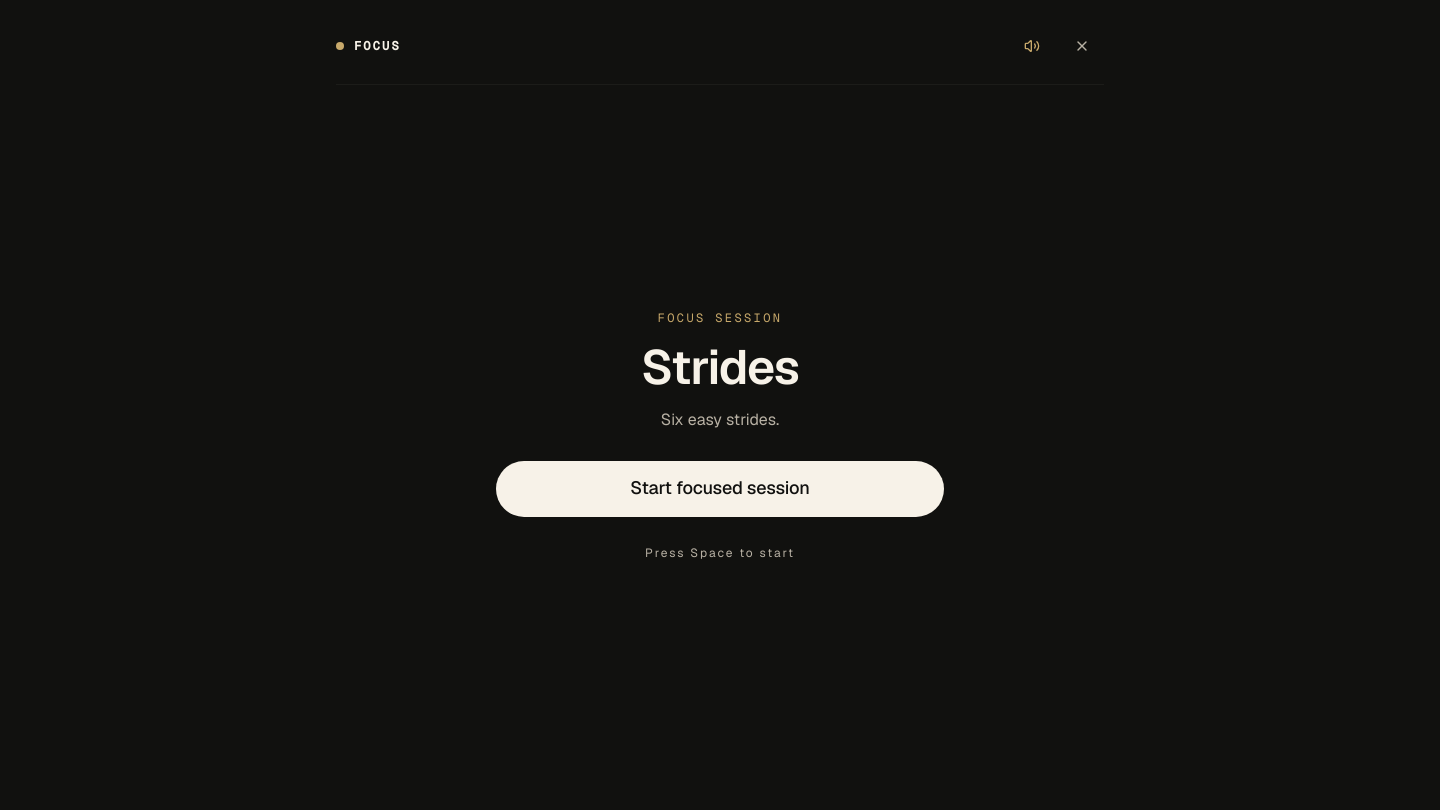
it: FocusSessionModal › B-52: a moved step from a done day is left out; the title, timer and 10-minute version follow the day as shown
This screenshot has width=1440, height=810.
Later steps or results of the test are not shown.
Expected: the heading "Strides" is shown, [641,336,799,398]
Step 1. Click the button "Start focused session" → [720, 488], box [496,460,944,516]
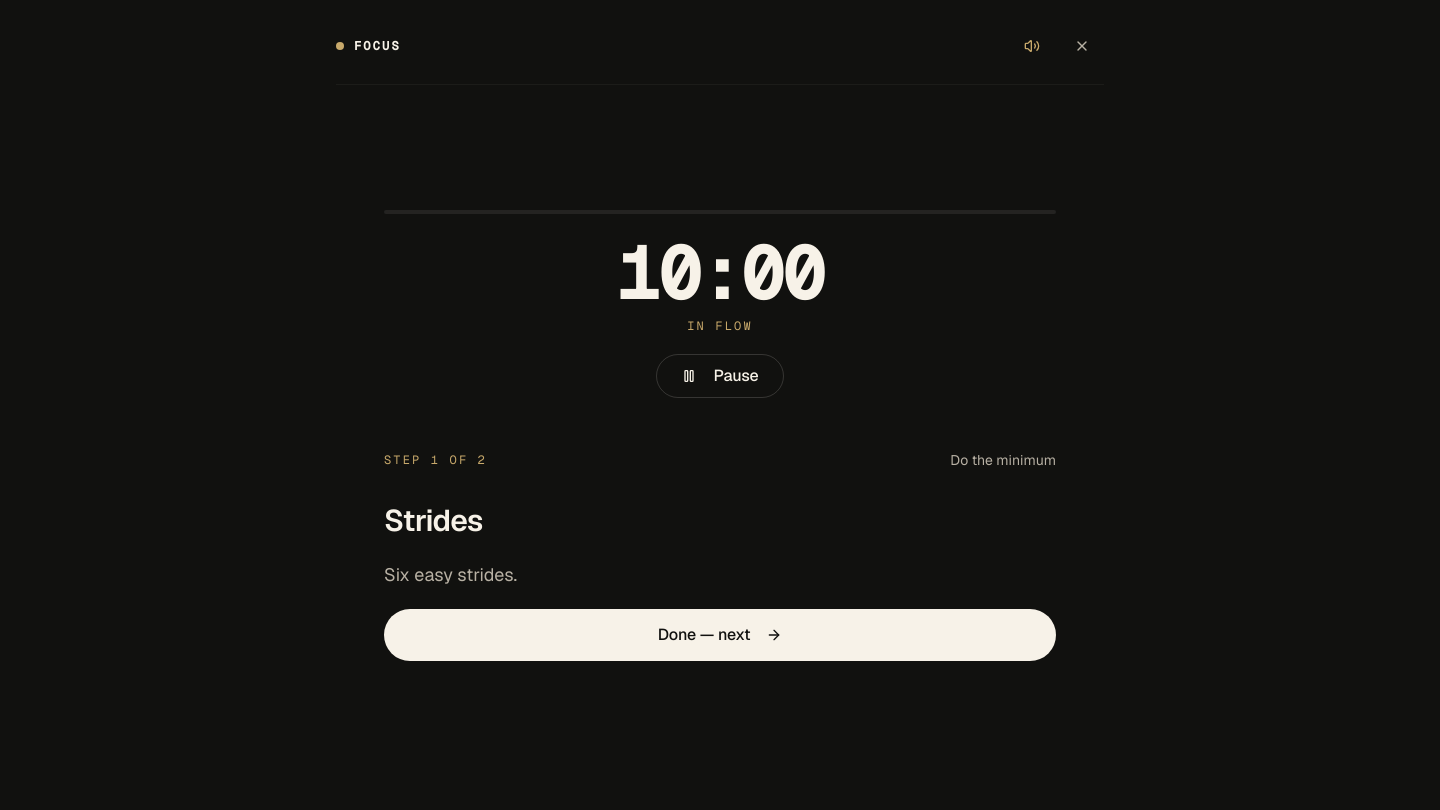
Now the text "10:00" is shown, box [616,238,824,310]
Now the text "Step 1 of 2" is shown, box [384,452,487,468]
